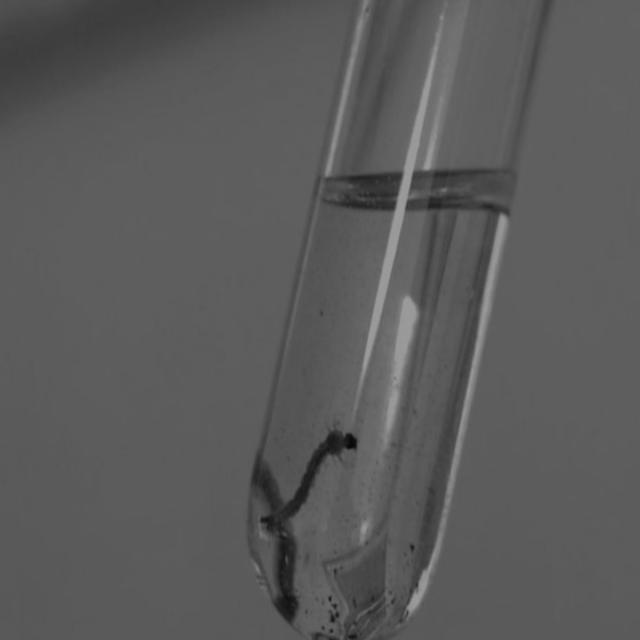larvas: (261, 406, 361, 543), (249, 432, 306, 621)
